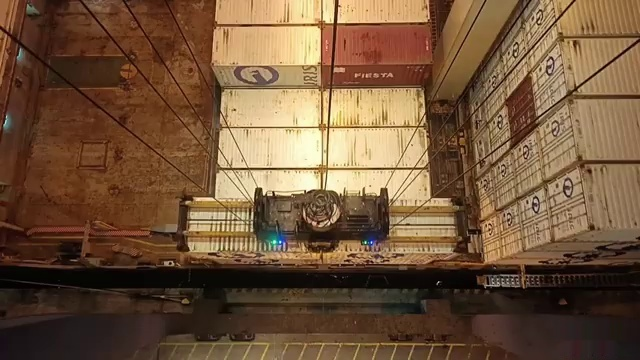container: (159, 192, 479, 259), (212, 26, 435, 87), (212, 205, 432, 260), (214, 125, 434, 168), (214, 86, 433, 128), (210, 168, 429, 208), (208, 0, 433, 23), (209, 0, 435, 17)
guide_mark: (110, 342, 543, 360), (66, 354, 561, 360)
spreader: (167, 188, 475, 260)
target_slot: (173, 176, 473, 259)
